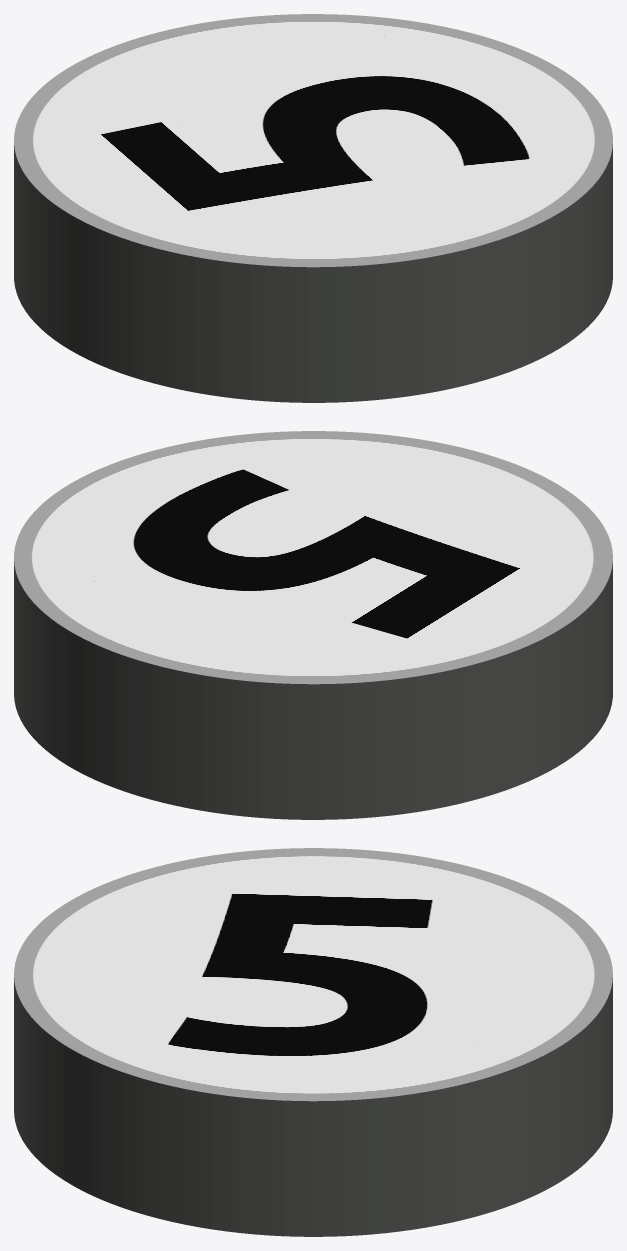
File: stepper_5.dae
3 renders of one model, top to bottom at view 1: azimuth 30°, elevation 25°; view 2: azimuth 150°, elevation 25°; view 3: azimuth 270°, elevation 25°, orthographic.
Parts seen in each view (by area): view 1: Cylinder; view 2: Cylinder; view 3: Cylinder.
Boxes of the visible parts, box(x1,y1,x2,y2) form: Cylinder: box(14, 14, 612, 402); Cylinder: box(14, 431, 612, 819); Cylinder: box(14, 848, 612, 1236).
Bounding box in the file's own units: 0.8 × 0.8 × 0.2.
Materials: 1 (1 with a texture image).
